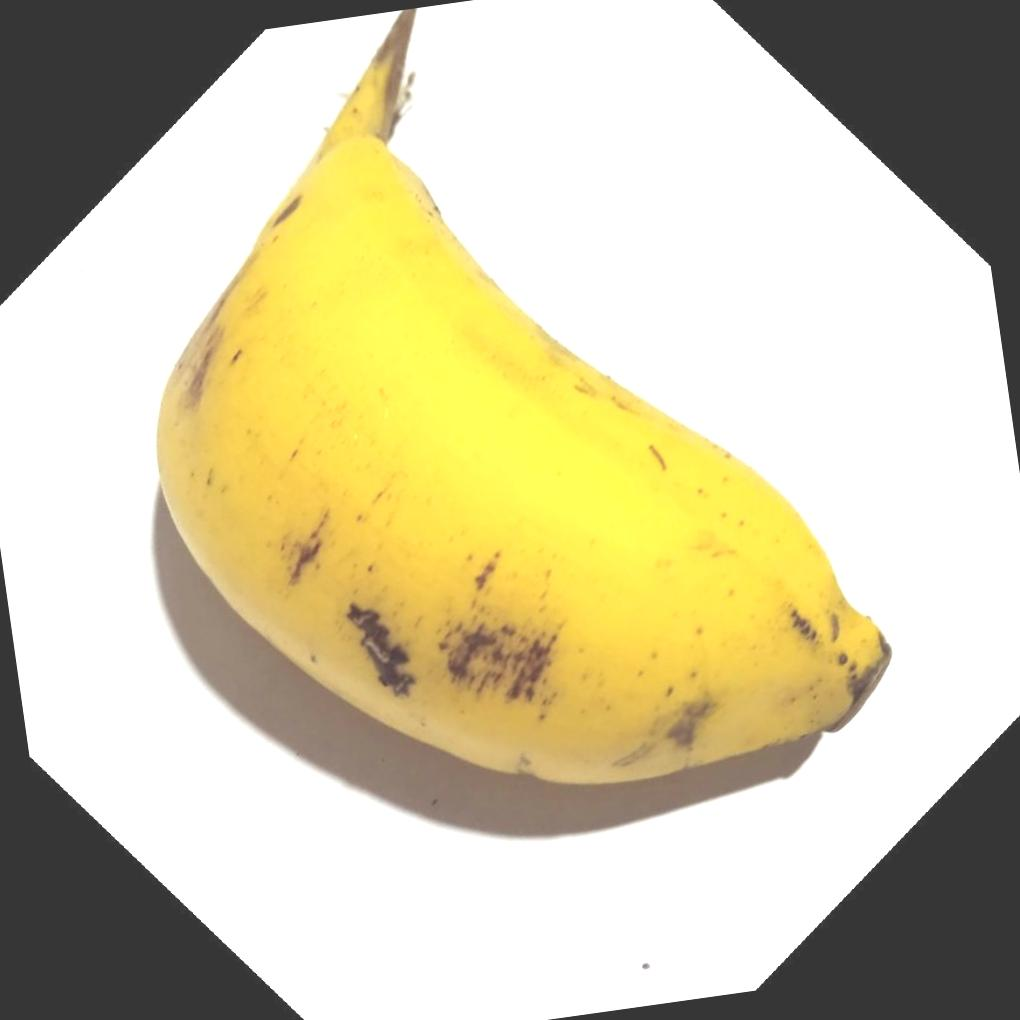Banana Ripe: (84, 0, 928, 869)
